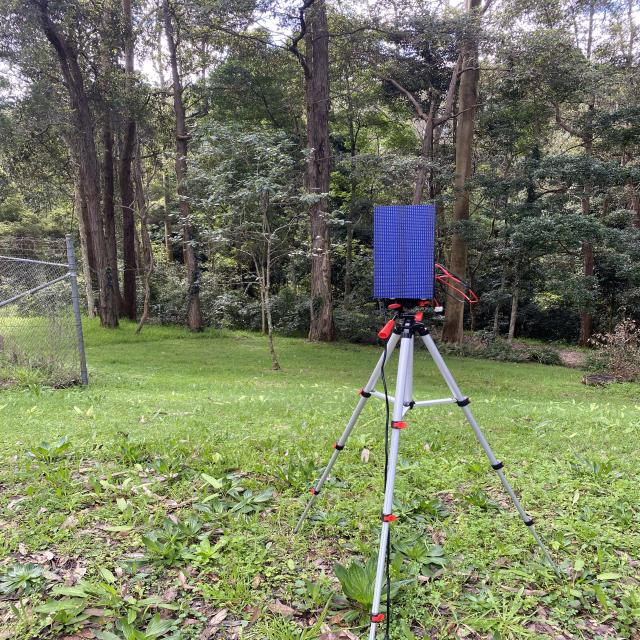matrix: (371, 202, 436, 303)
